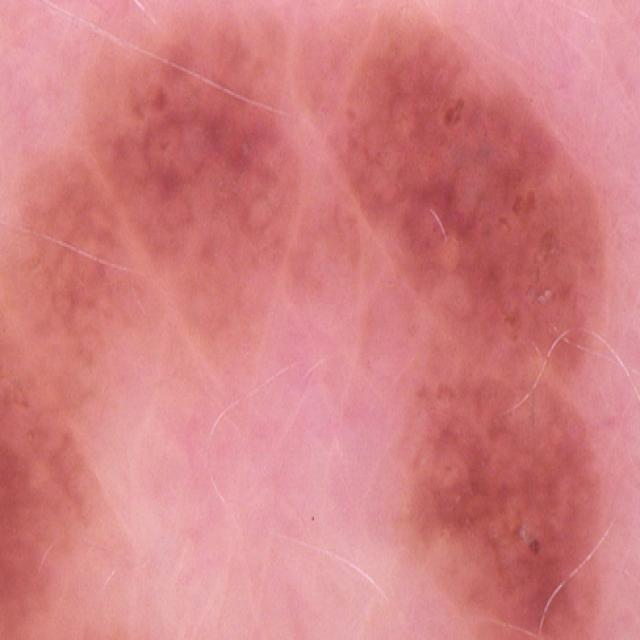Keratosis: (322, 75, 576, 608), (0, 241, 225, 640)
